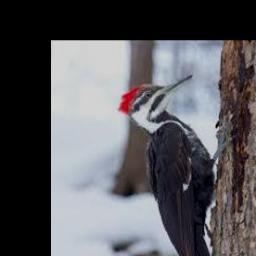Woodpecker: (118, 73, 236, 256)
